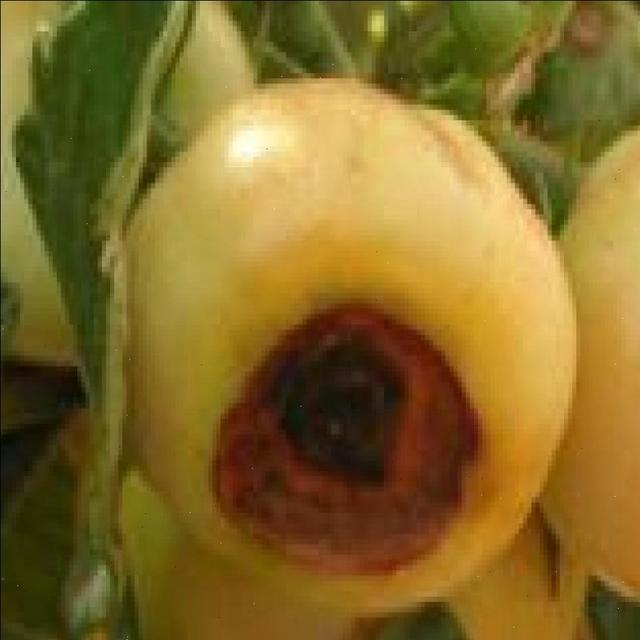Blossom End Rot Fruit: (136, 198, 316, 387)
